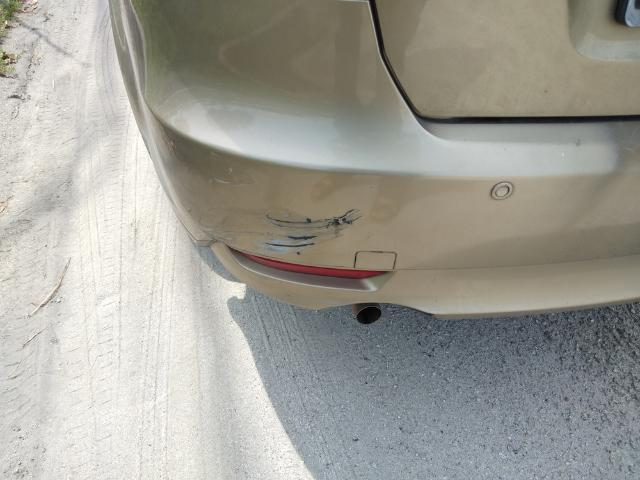scratch: (225, 206, 366, 260)
